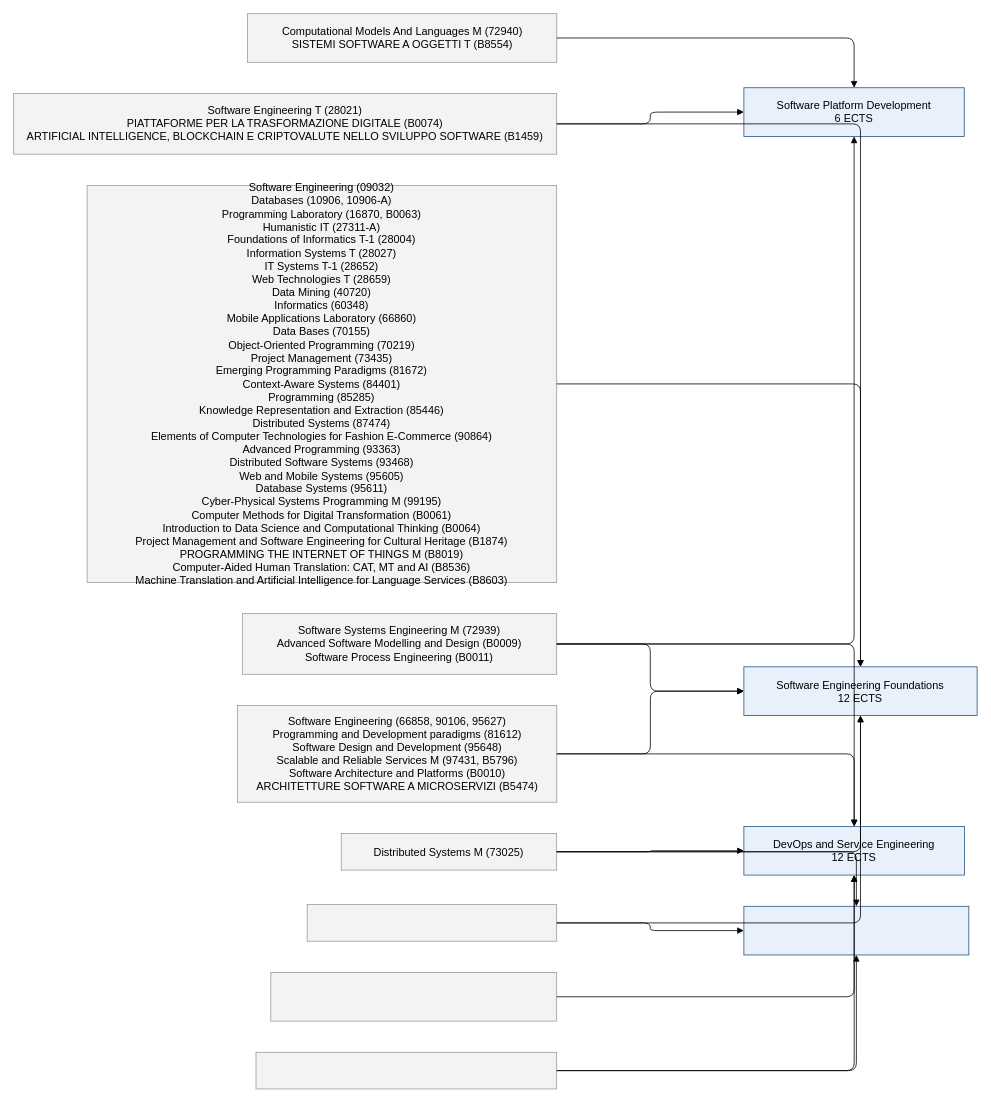
Some shapes in this 991 by 1103 pixel diagram are drawn without their labels. The shapes that lost their labels are listed below. From the top down, each one's box as (x1, y1, x2, y2) in pixels, then its label:
(306, 904, 557, 941): Design of Web Applications T (94442)
(743, 906, 969, 955): Enterprise Application Platforms 6 ECTS
(270, 972, 557, 1021): Virtualized Systems (95646) Computational Management of Data (B8105)
(255, 1052, 557, 1089): Virtualization and System Integration (96642)
